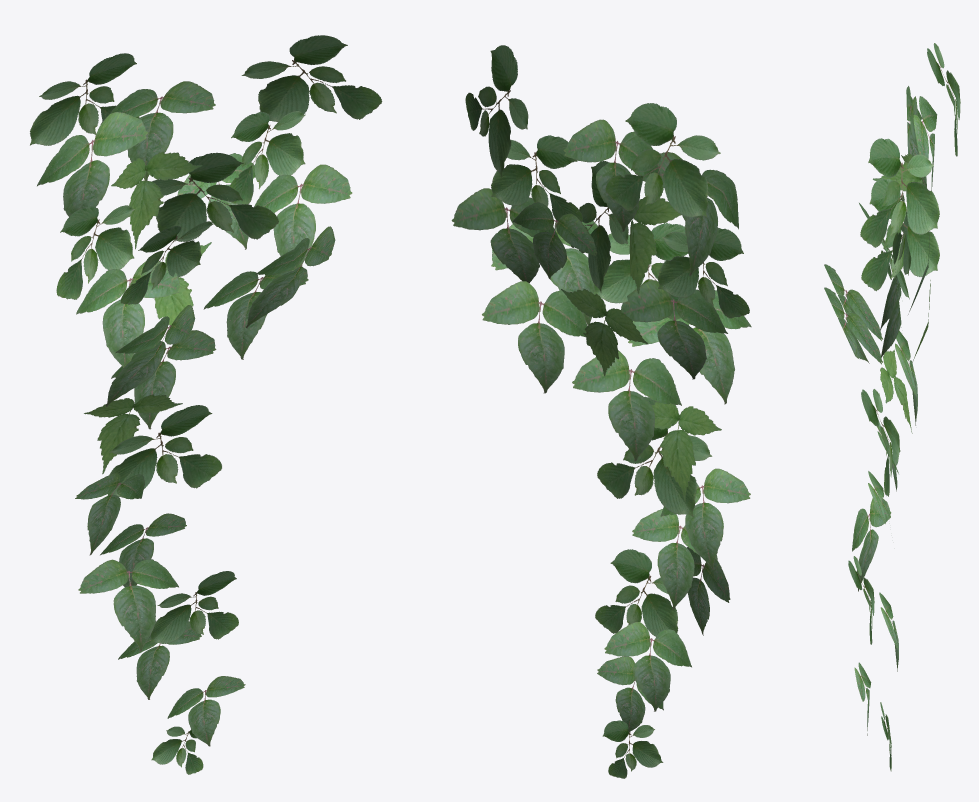
The model's file is ivy01.FBX.
3 renders of one model, left to right at view 1: azimuth 30°, elevation 25°; view 2: azimuth 150°, elevation 25°; view 3: azimuth 270°, elevation 25°, orthographic. The views are drawn at different scales.
Parts seen in each view (by area): view 1: ivy01; view 2: ivy01; view 3: ivy01.
Part boxes in pixels (x1,y1,x2,y2): ivy01: (30, 35, 382, 774); ivy01: (451, 45, 751, 778); ivy01: (824, 43, 960, 771).
Size of what is drawn, in the model's own units: 64.48 by 133 by 25.78.
Materials: 1 (1 with a texture image).
